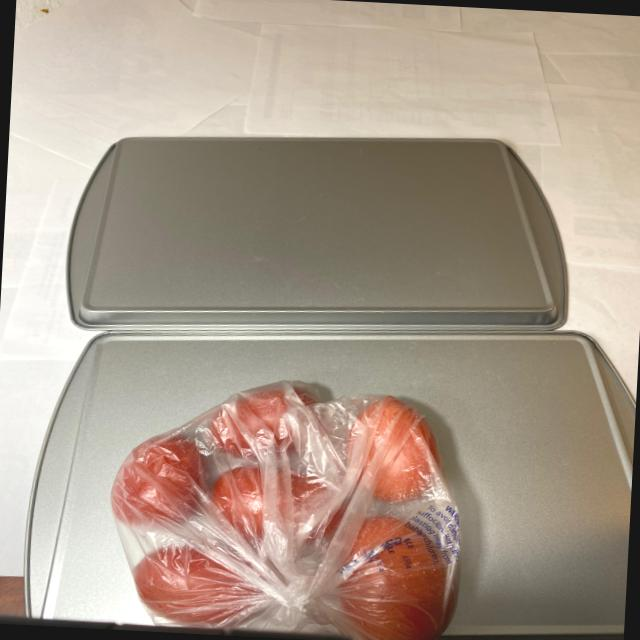tomato: (98, 380, 465, 640)
